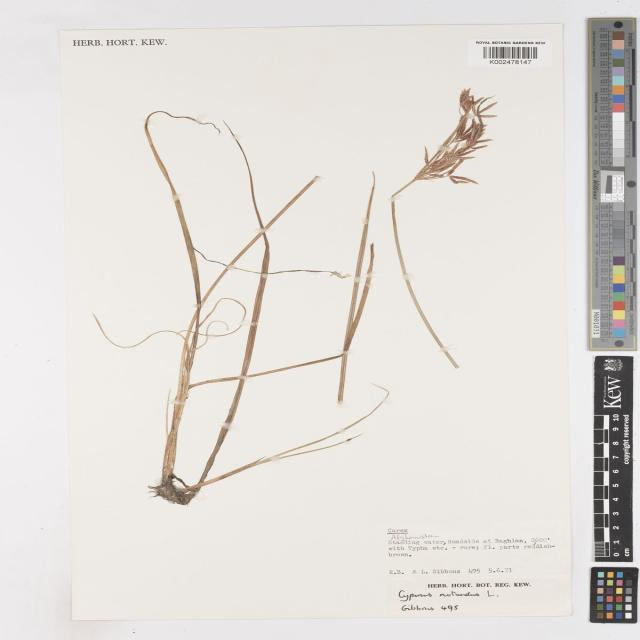cyperus: (414, 89, 509, 198)
